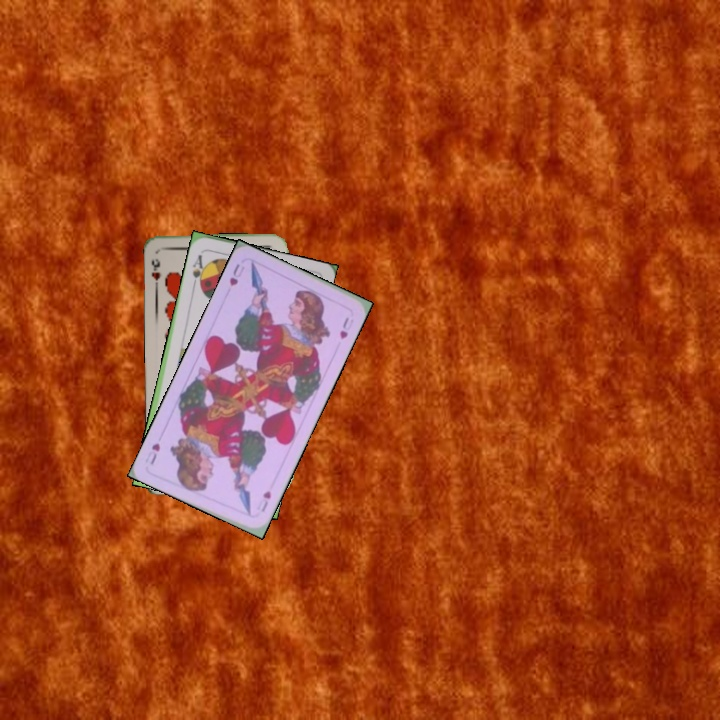H9: (147, 254, 163, 290)
HU: (225, 260, 247, 289), (252, 487, 274, 515)
SA: (188, 251, 209, 290)
